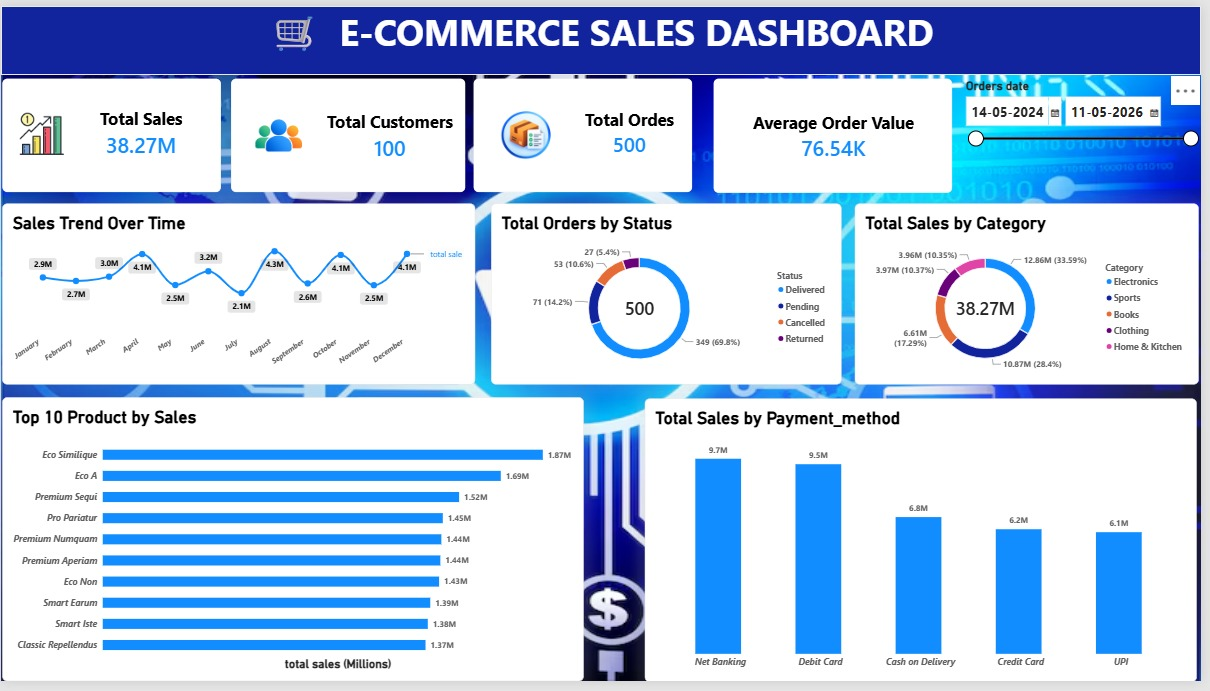

The dashboard page shown, as its layout file describes it:
{"tool":"powerbi","page":{"name":"Page 1","canvas":[1920,1080],"ordinal":0},"visuals":[{"type":"textbox","box":[0,0,1920.1,110.4],"z":0},{"type":"lineChart","title":"Sales Trend Over Time","fields":{"Category":["orders.order_date.Variation.Date Hierarchy.Year","orders.order_date.Variation.Date Hierarchy.Quarter","orders.order_date.Variation.Date Hierarchy.Month"],"Y":["customers.total sale"]},"box":[2,316,756.4,289.5],"z":1000},{"type":"donutChart","title":"Total Sales by Category","fields":{"Category":["products.category"],"Y":["customers.total sale"]},"box":[1365,315,550.1,289.5],"z":2000},{"type":"donutChart","title":"Total Orders by Status","fields":{"Category":["orders.status"],"Y":["orders.total orders"]},"box":[783.6,316.7,561,289.5],"z":3000},{"type":"columnChart","title":"Total Sales by Payment_method","fields":{"Category":["orders.payment_method"],"Y":["customers.total sales"]},"box":[1030,627.5,883.3,453.3],"z":4000},{"type":"barChart","title":"Top 10 Product by Sales","fields":{"Category":["products.product_name"],"Y":["customers.total sales"]},"box":[2.5,625,930.2,454.2],"z":5000},{"type":"cardVisual","fields":{"Data":["customers.total sales"]},"box":[1.8,115.8,350,182.5],"z":6000},{"type":"cardVisual","fields":{"Data":["orders.total orders"]},"box":[756.4,115.8,350,182.5],"z":7000},{"type":"cardVisual","fields":{"Data":["customers.total customers"]},"box":[367.4,115.8,375,182.5],"z":8000},{"type":"cardVisual","fields":{"Data":["customers.Average Order Value"]},"box":[1140.1,115.8,382,183],"z":9000},{"type":"slicer","fields":{"Values":["customers.signup_date"]},"box":[1536.4,115.8,383.6,182.8],"z":10000}]}

Visuals, with their boxes in screenshot pixels (x1, y1, x2, y2), scaled from the page's 1920x1080 canvas onto the 1210x691 screenshot:
textbox: <bbox>0, 0, 1209, 71</bbox>
"Sales Trend Over Time" lineChart: <bbox>1, 202, 478, 387</bbox>
"Total Sales by Category" donutChart: <bbox>860, 202, 1207, 387</bbox>
"Total Orders by Status" donutChart: <bbox>494, 203, 847, 388</bbox>
"Total Sales by Payment_method" columnChart: <bbox>649, 401, 1206, 690</bbox>
"Top 10 Product by Sales" barChart: <bbox>2, 400, 588, 690</bbox>
cardVisual - customers.total sales: <bbox>1, 74, 222, 191</bbox>
cardVisual - orders.total orders: <bbox>477, 74, 697, 191</bbox>
cardVisual - customers.total customers: <bbox>232, 74, 468, 191</bbox>
cardVisual - customers.Average Order Value: <bbox>719, 74, 959, 191</bbox>
slicer - customers.signup_date: <bbox>968, 74, 1209, 191</bbox>
